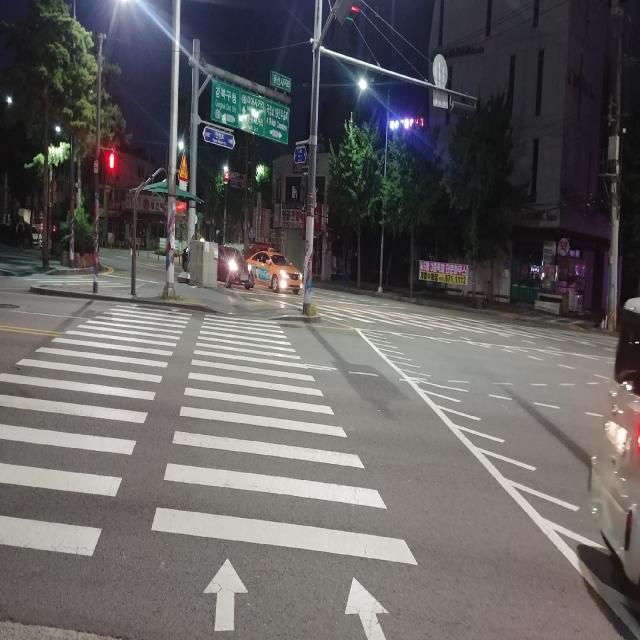빨간불: (106, 152, 116, 184)
횡단보도: (0, 301, 419, 640), (320, 311, 460, 329)
